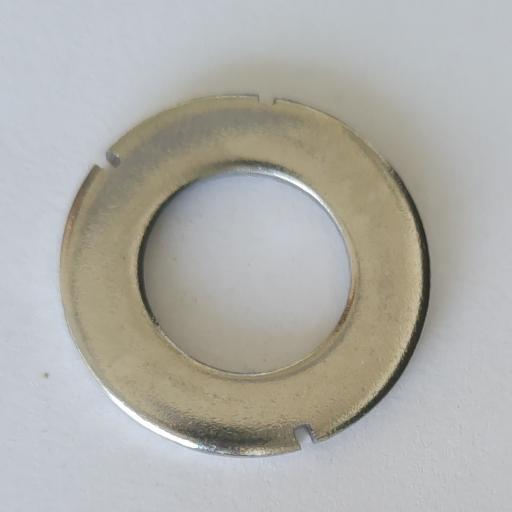burr: (95, 150, 122, 173), (292, 423, 314, 449), (258, 94, 277, 107)
